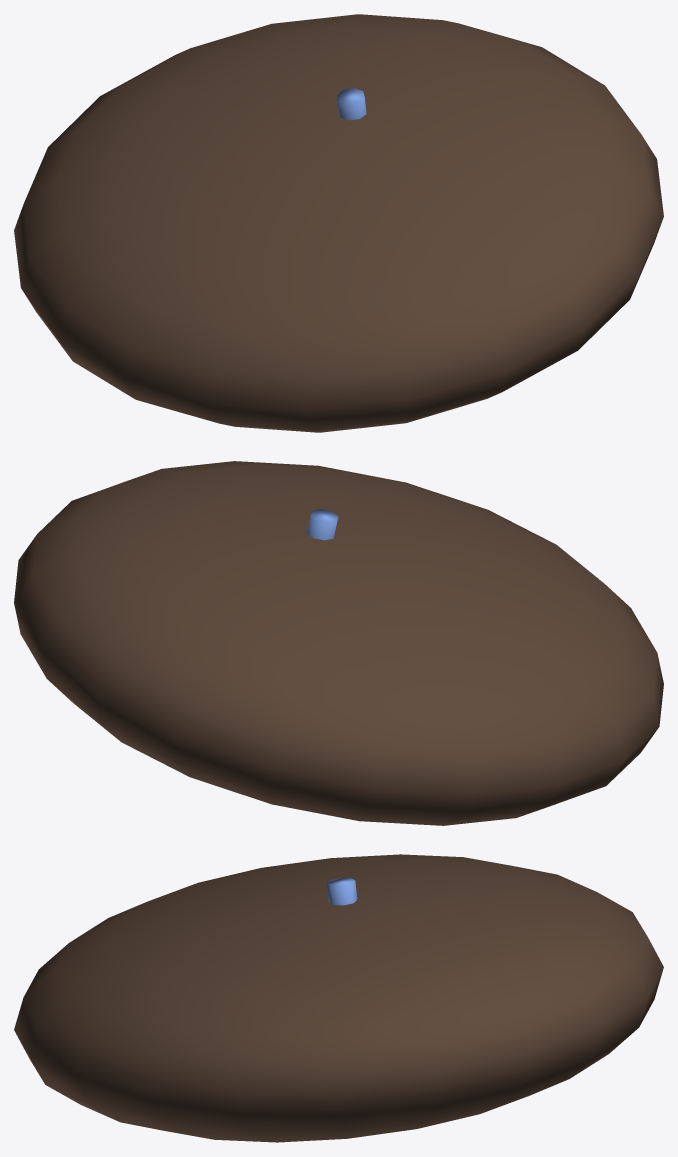
File: acc_beret.glb
The picture shows the model from 3 angles, top to bottom: view 1: azimuth 30°, elevation 25°; view 2: azimuth 150°, elevation 25°; view 3: azimuth 270°, elevation 25°; orthographic projection.
Visible parts, largest first — view 1: acc_beret; view 2: acc_beret; view 3: acc_beret.
Boxes of the visible parts, x1,y1,x2,y2 form: acc_beret: (14, 14, 663, 432); acc_beret: (14, 461, 663, 825); acc_beret: (14, 854, 663, 1142).
Bounding box in the file's own units: 0.2698 × 0.1109 × 0.272.
